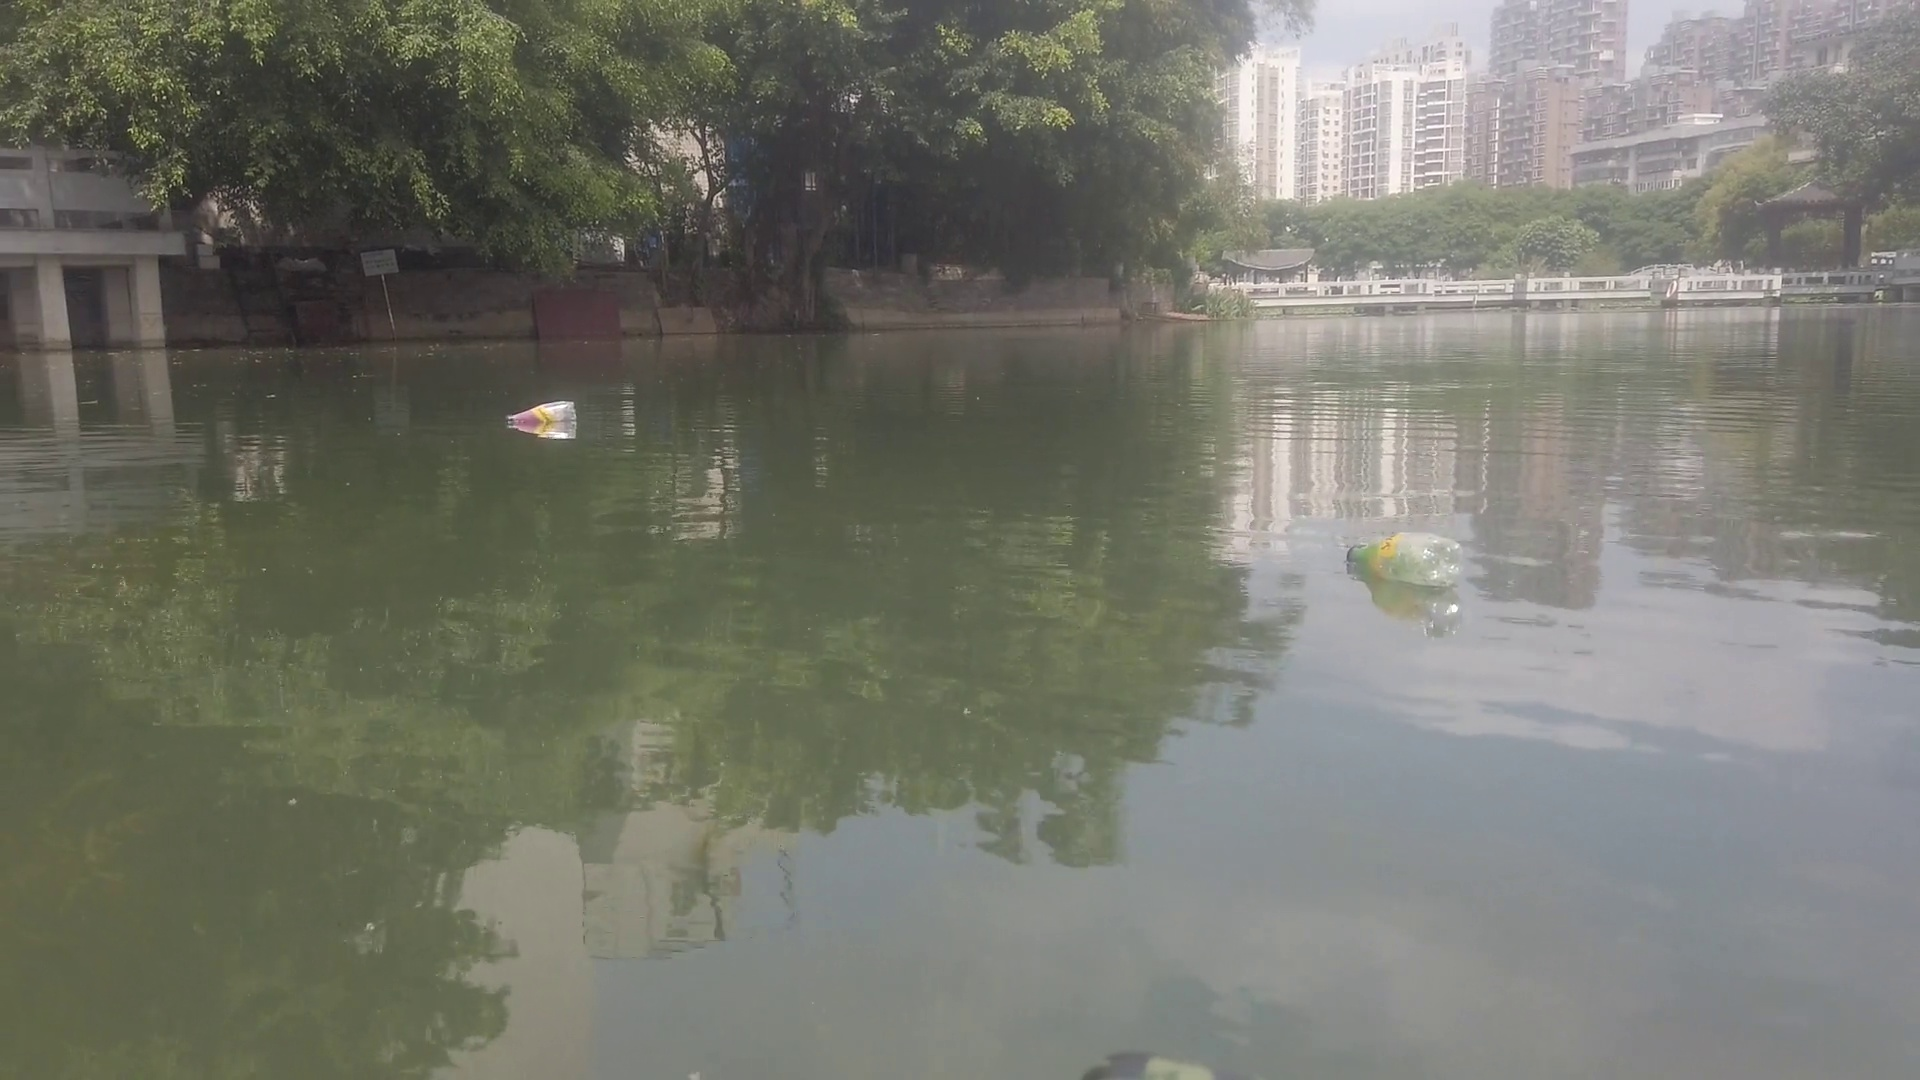bottle: (1337, 529, 1465, 592), (502, 396, 582, 429)
